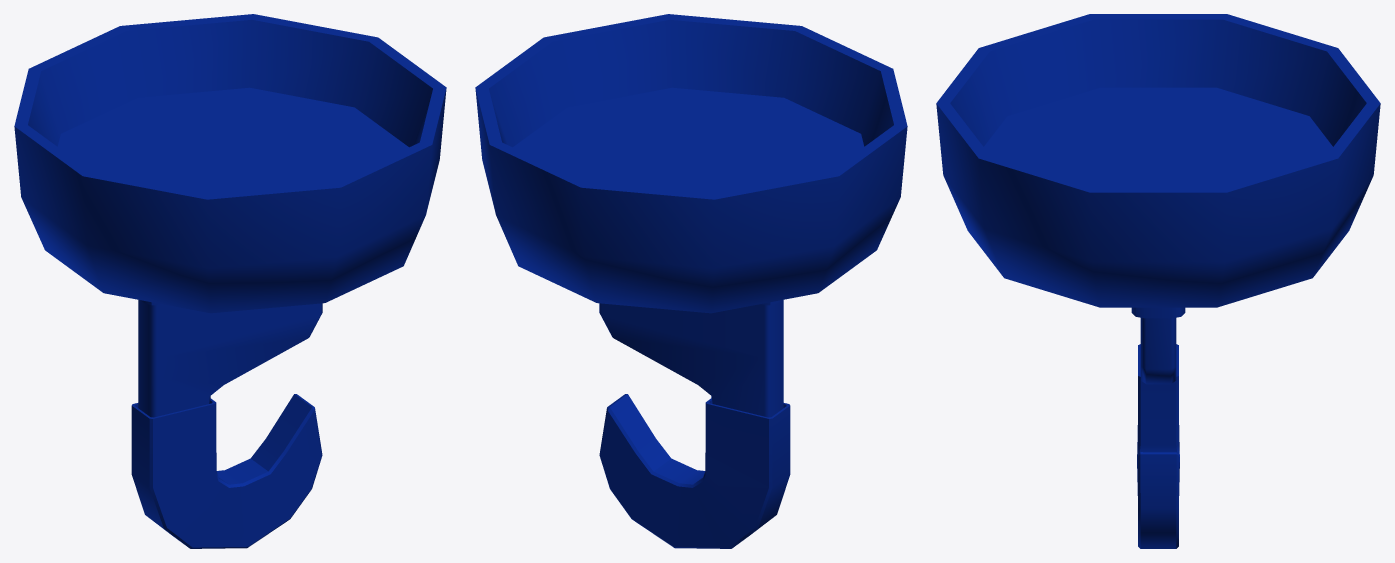
File: hook1.fbx
The picture shows the model from 3 angles, left to right: view 1: azimuth 30°, elevation 25°; view 2: azimuth 150°, elevation 25°; view 3: azimuth 270°, elevation 25°; orthographic projection.
Parts seen in each view (by area): view 1: hook1; view 2: hook1; view 3: hook1.
Boxes of the visible parts, x1=… form: hook1: x1=14, y1=14, x2=446, y2=548; hook1: x1=475, y1=14, x2=907, y2=548; hook1: x1=936, y1=14, x2=1380, y2=548.
Bounding box in the file's own units: 97.32 × 112 × 102.
